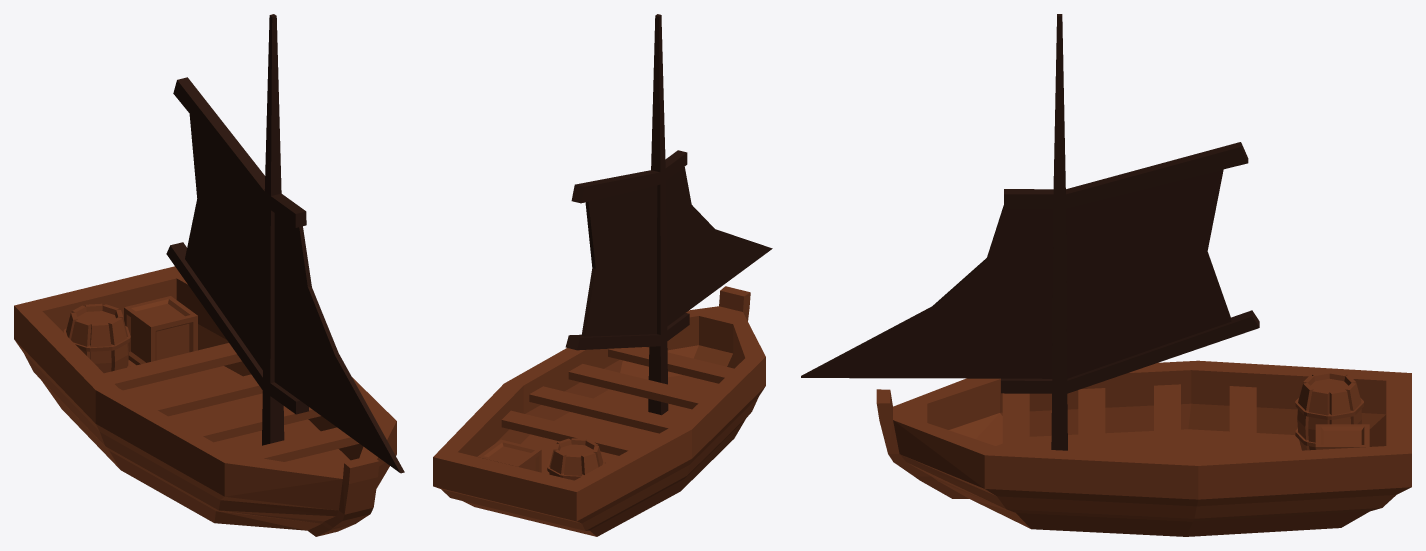
The model's file is boatwsail.glb.
3 views of the same model, side by side, from view 1: azimuth 30°, elevation 25°; view 2: azimuth 150°, elevation 25°; view 3: azimuth 270°, elevation 25° (orthographic). The views are drawn at different scales.
Visible parts, largest first — view 1: Boat_Cube, Sail_Cube.005; view 2: Boat_Cube, Sail_Cube.005; view 3: Boat_Cube, Sail_Cube.005.
Boxes of the visible parts, left/top/right/bottom form: Boat_Cube: left=14, top=266, right=396, bottom=536; Sail_Cube.005: left=166, top=14, right=404, bottom=473; Boat_Cube: left=433, top=286, right=765, bottom=536; Sail_Cube.005: left=565, top=14, right=772, bottom=415; Boat_Cube: left=876, top=360, right=1411, bottom=536; Sail_Cube.005: left=801, top=14, right=1259, bottom=450.
Size of the model in its own units: 0.4032 by 0.8547 by 0.989.
